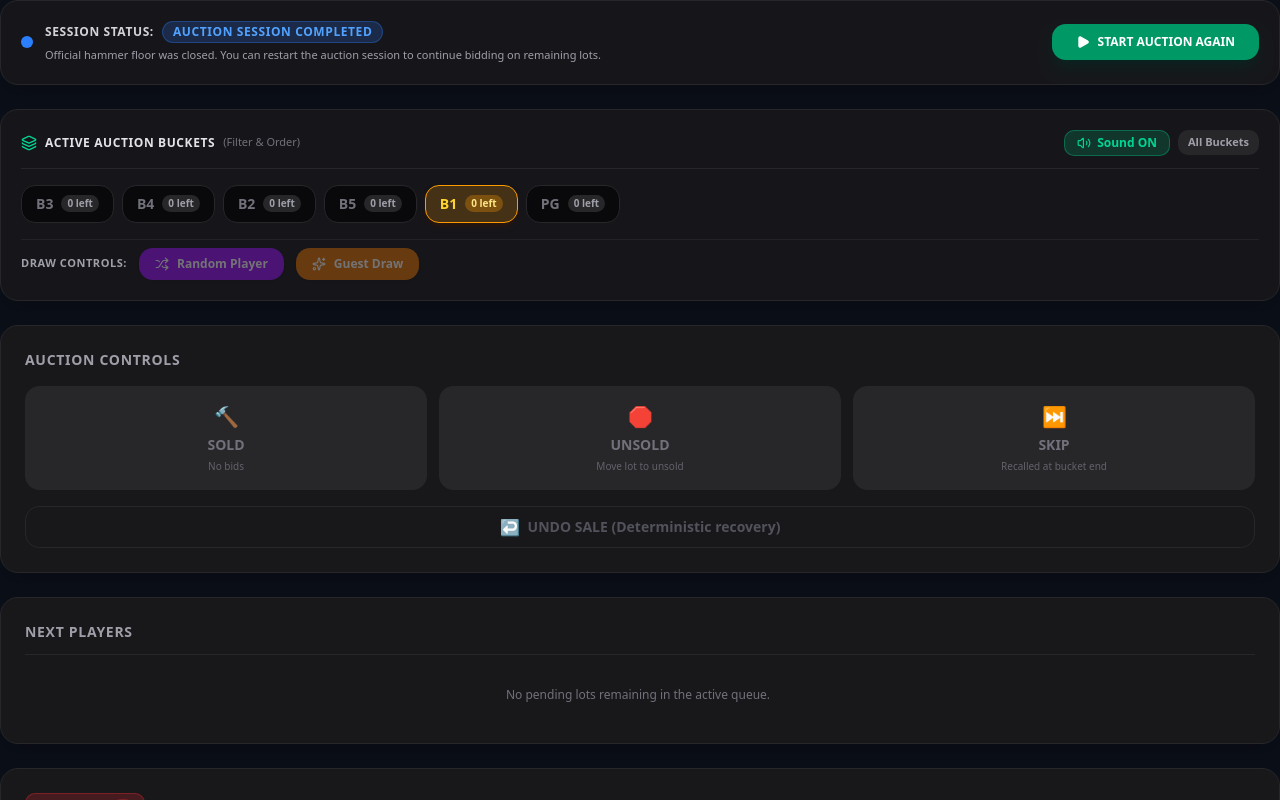
Test case: Phase 5.2 — Start Mode Dialog, Guest Draw & Transitions › 1. Start Mode Dialog Workflow › opens Start Auction Mode Dialog when START AUCTION AGAIN is clicked on completed session
The width and height of the screenshot is (1280, 800).
Click the button "START AUCTION AGAIN": click(1155, 42) x1=1052 y1=24 x2=1259 y2=60
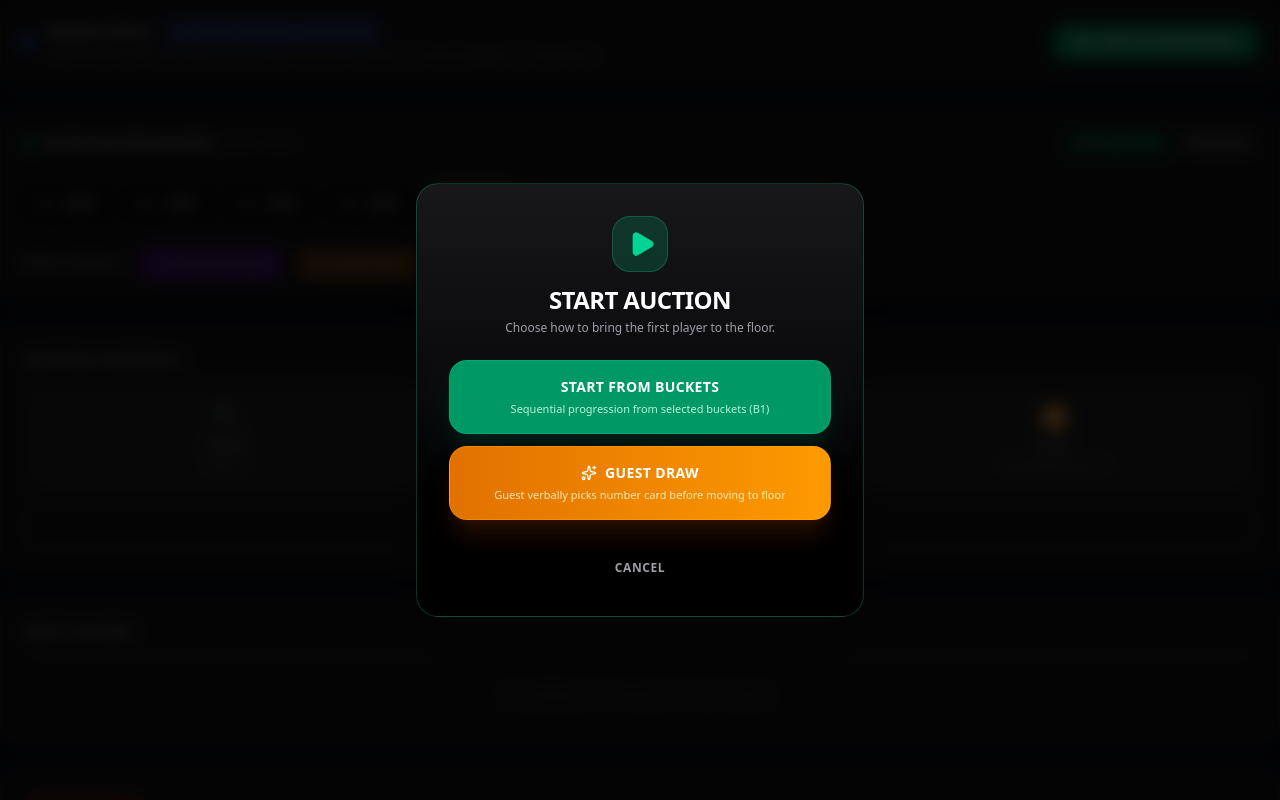
Check: the dialog is shown
